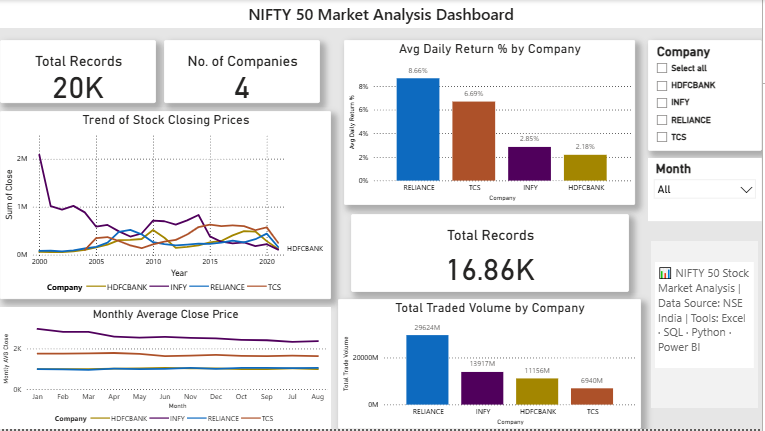

The dashboard page shown, as its layout file describes it:
{"tool":"powerbi","page":{"name":"Dashboard","canvas":[1280,720],"ordinal":0},"visuals":[{"type":"textbox","box":[0,0,1280,47],"z":0},{"type":"card","title":"Total Records","fields":{"Values":["cleanNifty50.Total Records"]},"box":[0,67.2,262,105.8],"z":1000},{"type":"card","title":"No. of Companies","fields":{"Values":["cleanNifty50.Num Companies"]},"box":[275.5,67.2,262,105.8],"z":2000},{"type":"clusteredColumnChart","fields":{"Category":["cleanNifty50.Company"],"Y":["cleanNifty50.Avg Daily Return %"]},"box":[577.8,67.2,488.8,277.2],"z":3000},{"type":"slicer","fields":{"Values":["cleanNifty50.Company"]},"box":[1088.5,67.2,191.5,186.5],"z":4000},{"type":"slicer","fields":{"Values":["cleanNifty50.Month"]},"box":[1088.5,265.4,191.5,105.8],"z":5000},{"type":"lineChart","title":"Trend of Stock Closing Prices","fields":{"Category":["cleanNifty50.Date.Variation.Date Hierarchy.Year","cleanNifty50.Date.Variation.Date Hierarchy.Quarter","cleanNifty50.Date.Variation.Date Hierarchy.Month","cleanNifty50.Date.Variation.Date Hierarchy.Day"],"Series":["cleanNifty50.Company"],"Y":["Sum(cleanNifty50.Close)"]},"box":[0,186.5,556,315.8],"z":5001},{"type":"card","title":"Total Records","fields":{"Values":["cleanNifty50.Highest Close price"]},"box":[589.6,359.5,467,131],"z":5003},{"type":"lineChart","title":"Monthly Average Close Price","fields":{"Category":["cleanNifty50.Month"],"Series":["cleanNifty50.Company"],"Y":["cleanNifty50.Montly AVG Close"]},"box":[0,515.7,556,204.9],"z":5004},{"type":"clusteredColumnChart","title":"Total Traded Volume by Company","fields":{"Category":["cleanNifty50.Company"],"Y":["cleanNifty50.Total Trade Volume"]},"box":[567.8,502.3,509,218.4],"z":5005},{"type":"shape","box":[1093.5,404.8,179.7,280.5],"z":5006},{"type":"textbox","box":[1100.3,440.1,166.3,178.1],"z":5007}]}

Visuals, with their boxes in screenshot pixels (x1, y1, x2, y2), scaled from the page's 1280x720 canvas onto the 765x431 screenshot:
textbox: bbox=[0, 0, 764, 28]
"Total Records" card: bbox=[0, 40, 157, 104]
"No. of Companies" card: bbox=[165, 40, 321, 104]
clusteredColumnChart - cleanNifty50.Company x cleanNifty50.Avg Daily Return %: bbox=[345, 40, 637, 206]
slicer - cleanNifty50.Company: bbox=[651, 40, 764, 152]
slicer - cleanNifty50.Month: bbox=[651, 159, 764, 222]
"Trend of Stock Closing Prices" lineChart: bbox=[0, 112, 332, 301]
"Total Records" card: bbox=[352, 215, 631, 294]
"Monthly Average Close Price" lineChart: bbox=[0, 309, 332, 430]
"Total Traded Volume by Company" clusteredColumnChart: bbox=[339, 301, 644, 430]
shape: bbox=[654, 242, 761, 410]
textbox: bbox=[658, 263, 757, 370]
